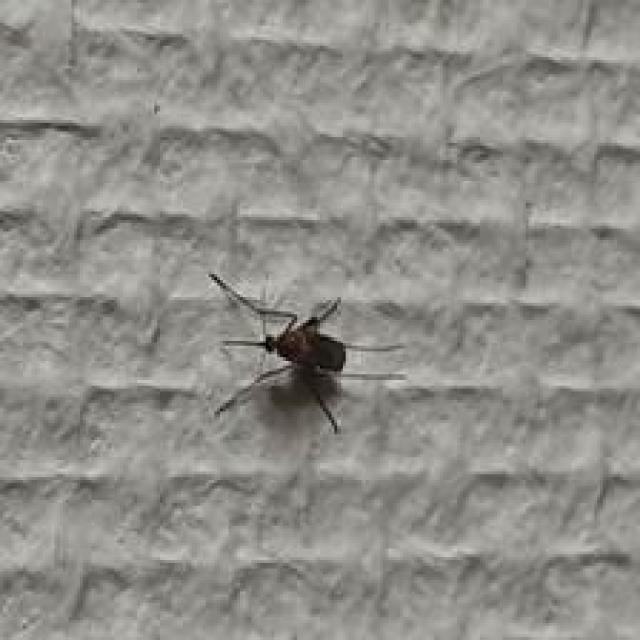Culex: (207, 270, 407, 436)
